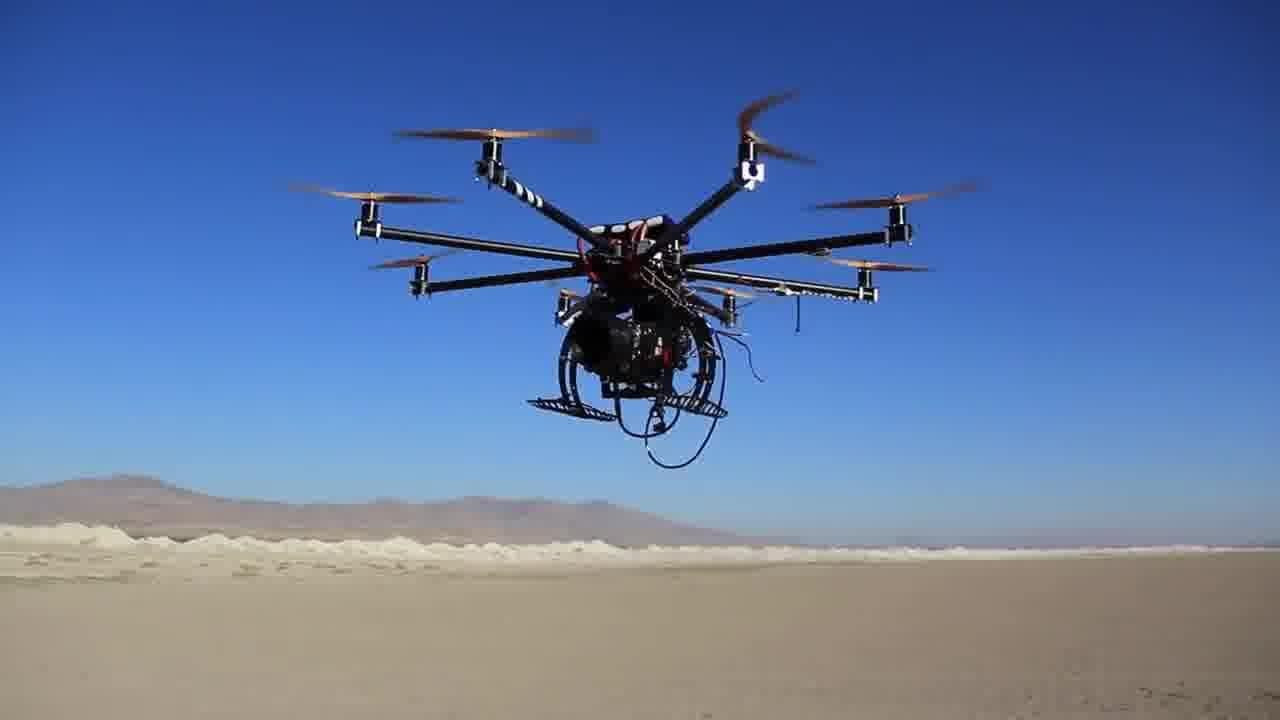drone: (313, 88, 856, 433)
